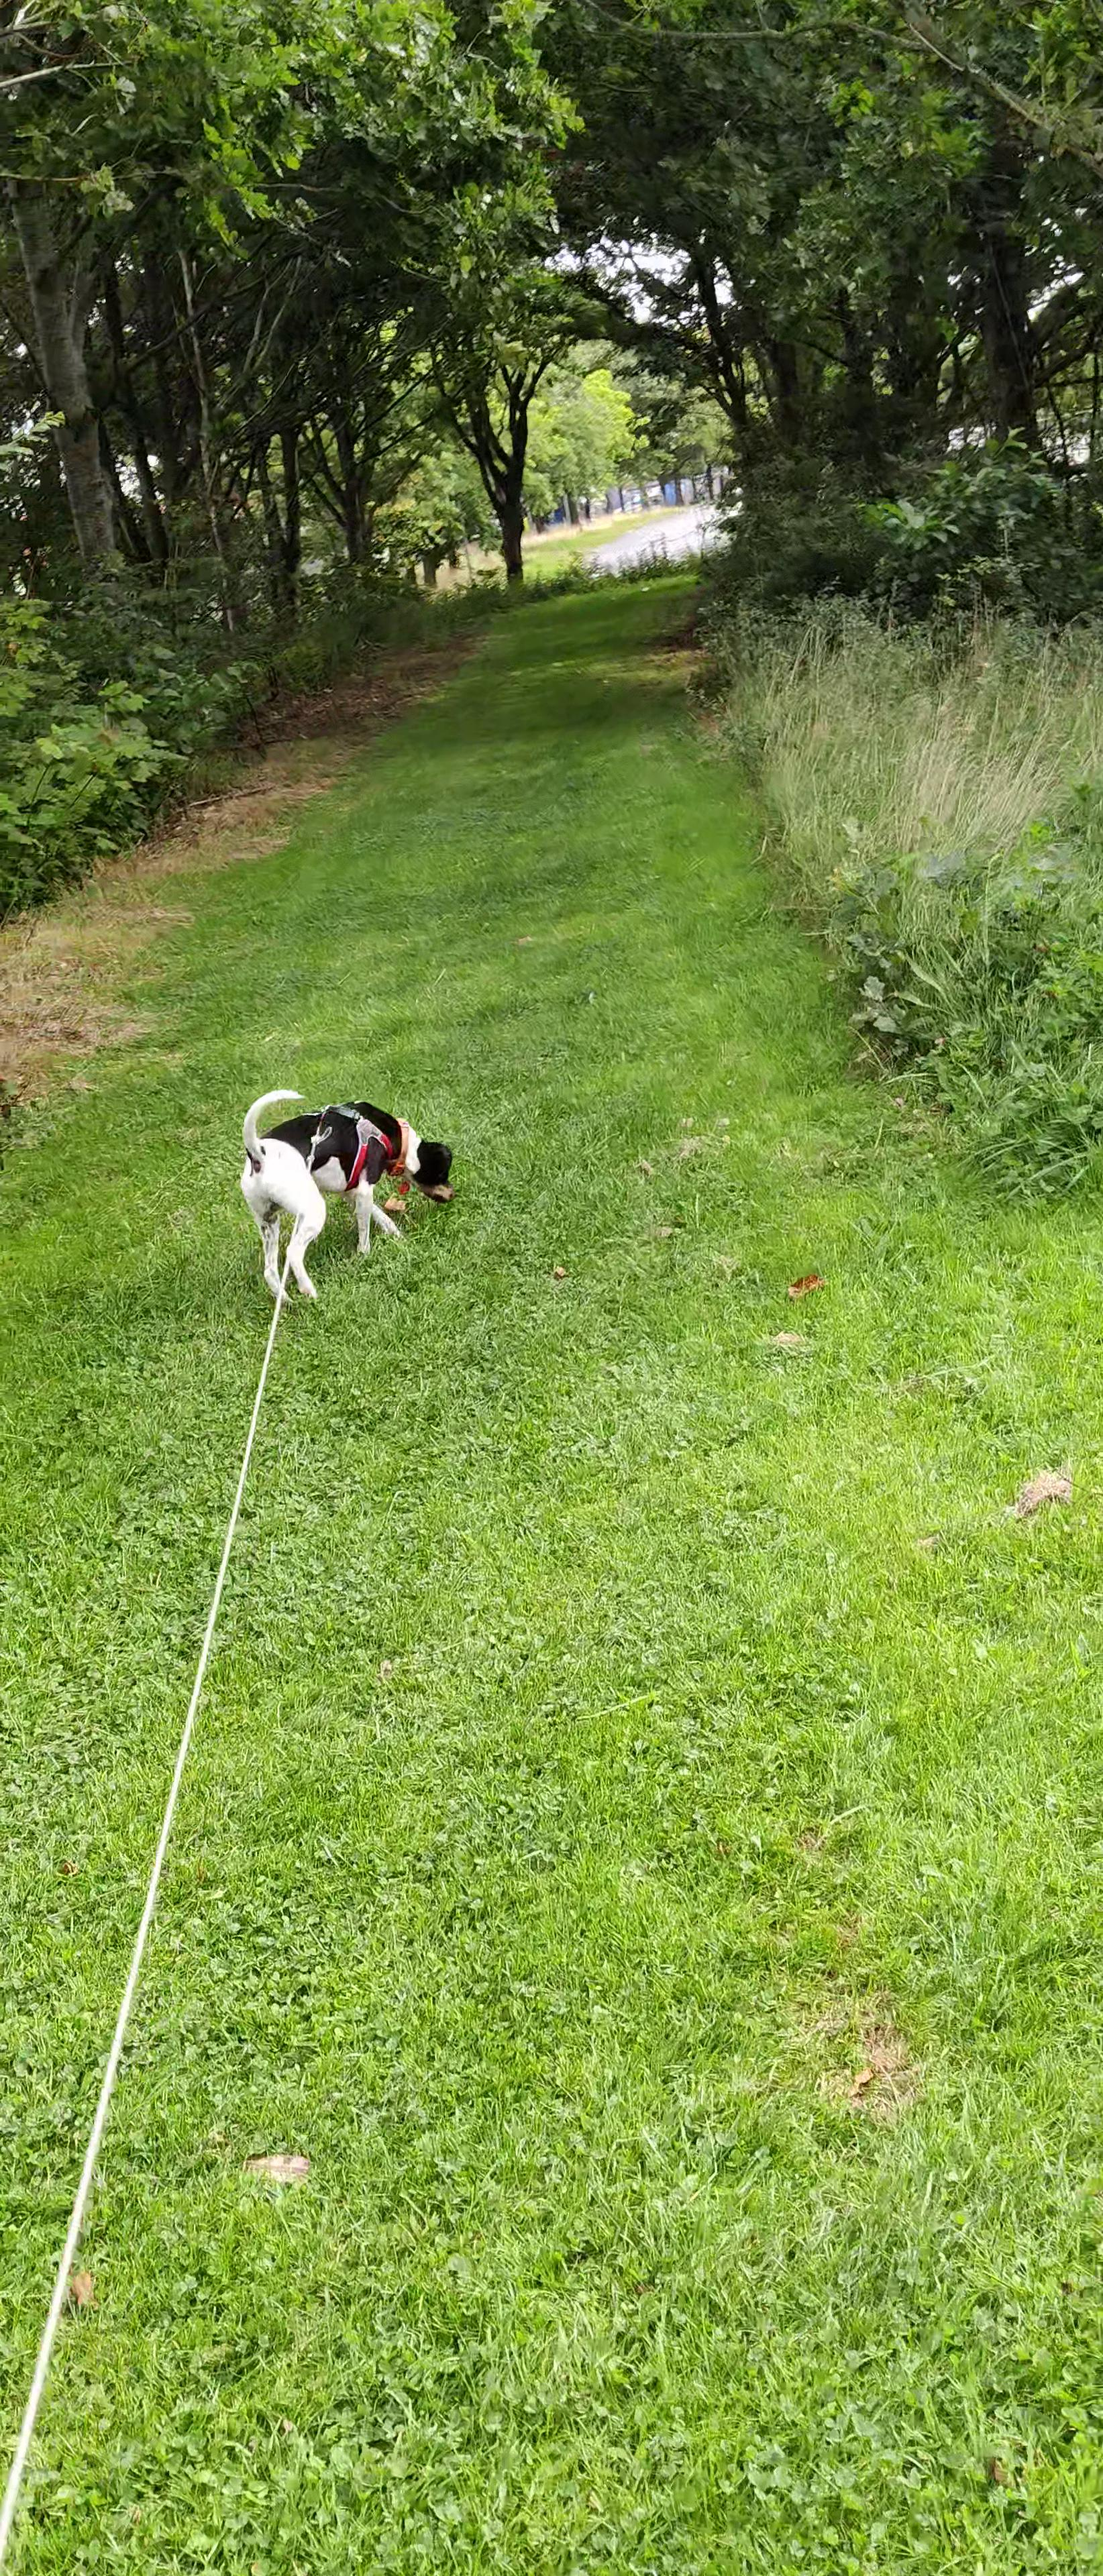Dog: (220, 1079, 464, 1304)
